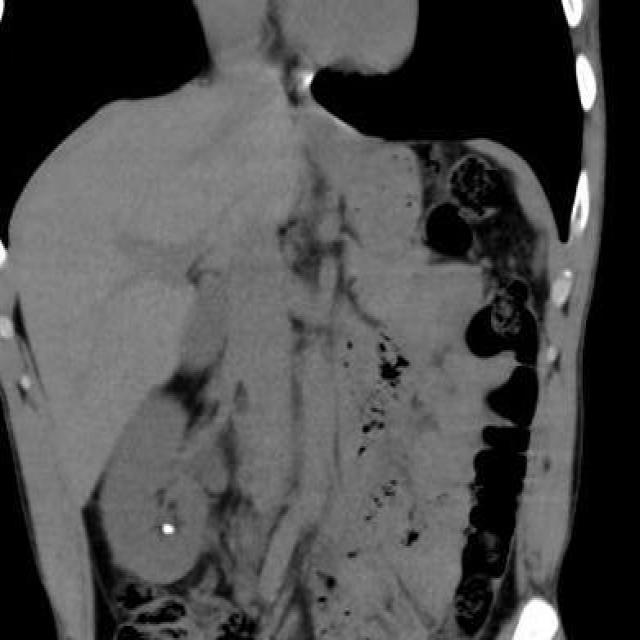Tas_Var: (163, 519, 174, 541)
